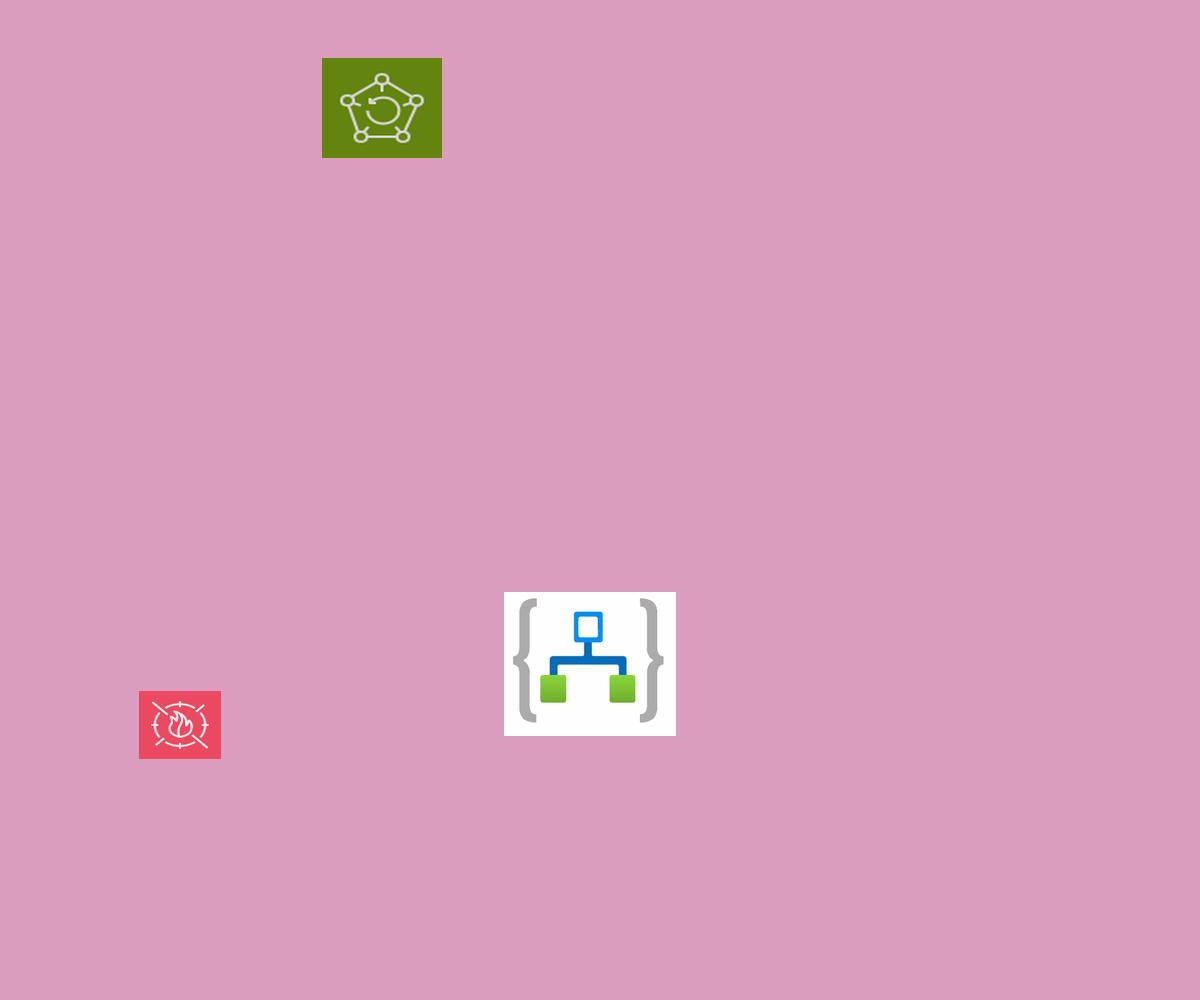AWS-Backup: (322, 58, 442, 158)
AWS-WAF: (139, 691, 221, 759)
Azure_integration-204-Logic-Apps: (504, 592, 676, 736)
